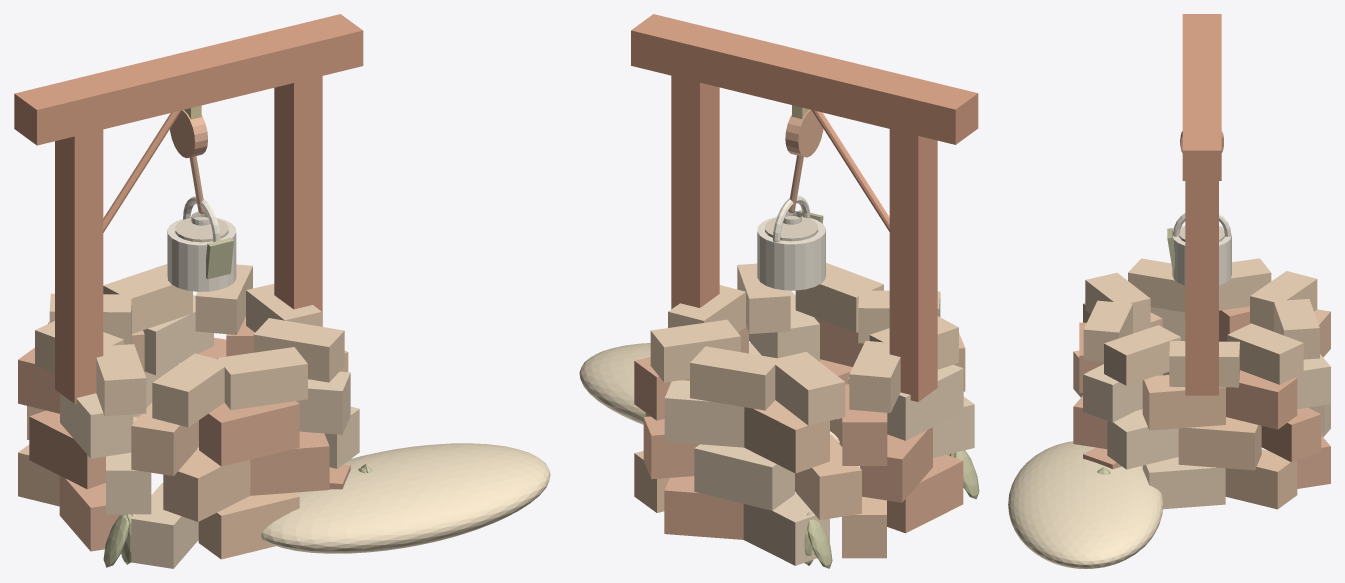
The model's file is well.glb.
3 views of the same model, side by side, from view 1: azimuth 30°, elevation 25°; view 2: azimuth 150°, elevation 25°; view 3: azimuth 270°, elevation 25° (orthographic). The views are drawn at different scales.
Visible parts, largest first — view 1: Sand_Mound, Crossbeam, Post_L, Post_R, Brick_2_8, Rim_0, Brick_1_8, Rim_8, Brick_0_0, Brick_1_0, Brick_0_8, Rim_1 (+23 smaller); view 2: Crossbeam, Post_L, Post_R, Brick_1_4, Rim_4, Brick_2_4, Rim_5, Brick_2_3, Brick_0_4, Bucket, Brick_0_5, Sand_Mound (+25 smaller); view 3: Sand_Mound, Post_R, Crossbeam, Brick_1_2, Brick_2_1, Brick_0_2, Rim_1, Brick_2_2, Rim_3, Brick_0_3, Brick_1_1, Brick_2_0 (+17 smaller).
Boxes of the visible parts, x1,y1,x2,y2 form: Sand_Mound: (261,443,550,553); Crossbeam: (14,14,363,145); Post_L: (55,129,103,403); Post_R: (274,76,322,326); Brick_2_8: (199,401,299,466); Rim_0: (217,347,307,410); Brick_1_8: (163,448,250,521); Rim_8: (152,353,230,427); Brick_0_0: (198,492,299,559); Brick_1_0: (250,431,329,495); Brick_0_8: (131,483,198,568); Rim_1: (253,318,344,382); Crossbeam: (631,14,978,144); Post_L: (889,129,937,401); Post_R: (671,75,719,308); Brick_1_4: (694,444,794,510); Rim_4: (690,346,780,410); Brick_2_4: (744,400,829,473); Rim_5: (770,352,845,425); Brick_2_3: (664,380,744,447); Brick_0_4: (664,476,743,539); Bucket: (757,216,825,290); Brick_0_5: (743,493,829,565); Sand_Mound: (579,343,839,443); Sand_Mound: (1008,441,1163,568); Post_R: (1185,181,1218,395); Crossbeam: (1182,14,1221,180); Brick_1_2: (1178,417,1261,470); Brick_2_1: (1142,375,1225,430); Brick_0_2: (1142,457,1225,509); Rim_1: (1104,325,1180,385); Brick_2_2: (1226,370,1297,429); Rim_3: (1227,323,1303,384); Brick_0_3: (1225,449,1297,509); Brick_1_1: (1107,409,1178,469); Brick_2_0: (1083,364,1162,422).
Bounding box in the file's own units: 1.73 × 1.65 × 1.25.
